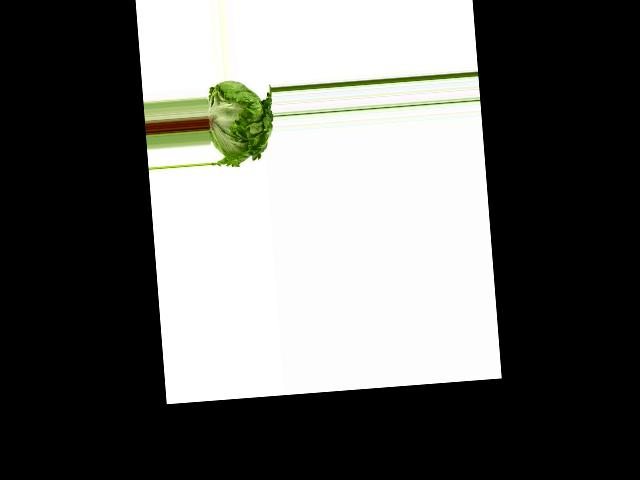lettuce: (204, 75, 276, 172)
